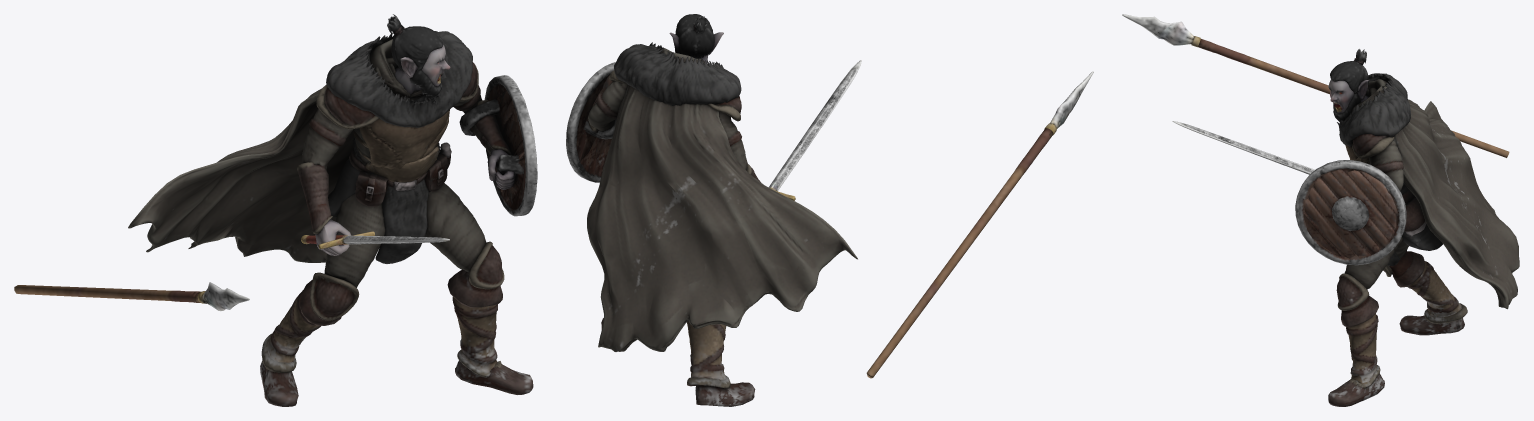
Rendered from MZ4250 - VerbeegMarauder_Sword.glb.
The picture shows the model from 3 angles, left to right: view 1: azimuth 30°, elevation 25°; view 2: azimuth 150°, elevation 25°; view 3: azimuth 270°, elevation 25°; orthographic projection. The views are drawn at different scales.
Visible parts, largest first — view 1: Greatsword.001, Cube.001; view 2: Greatsword.001, Cube.001; view 3: Greatsword.001, Cube.001.
Part boxes in pixels (<box>): Greatsword.001: <box>128,14,537,406</box>; Cube.001: <box>14,282,249,311</box>; Greatsword.001: <box>566,14,861,406</box>; Cube.001: <box>866,71,1093,378</box>; Greatsword.001: <box>1172,49,1519,406</box>; Cube.001: <box>1122,14,1509,157</box>.
Bounding box in the file's own units: 160 × 141 × 163.
Materials: 3 (3 with a texture image).
